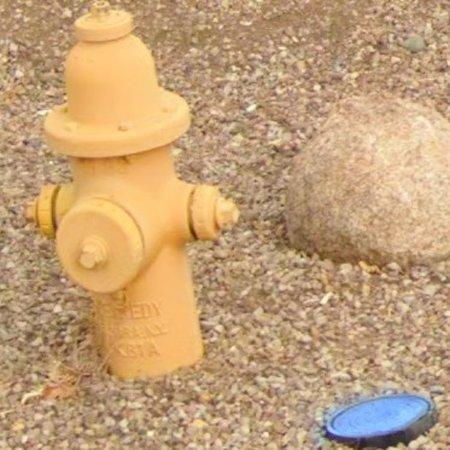a fire hydrant: (28, 1, 239, 379)
